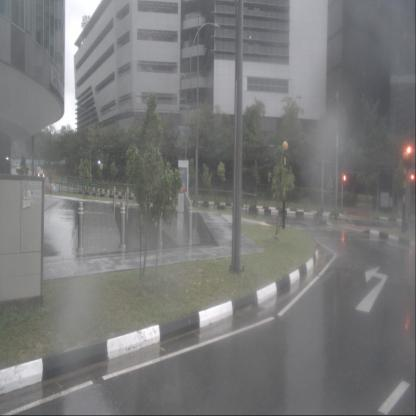movable_object-trafficcone: (46, 183, 50, 194), (50, 183, 53, 193), (58, 185, 61, 194)
vehicle-car: (46, 184, 58, 195), (37, 168, 45, 180), (35, 166, 42, 176), (16, 164, 21, 172)
